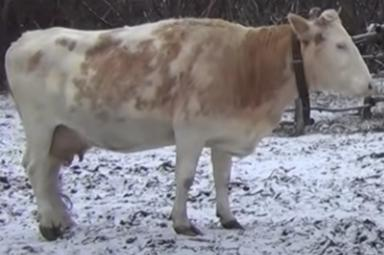cow: (6, 12, 374, 238)
